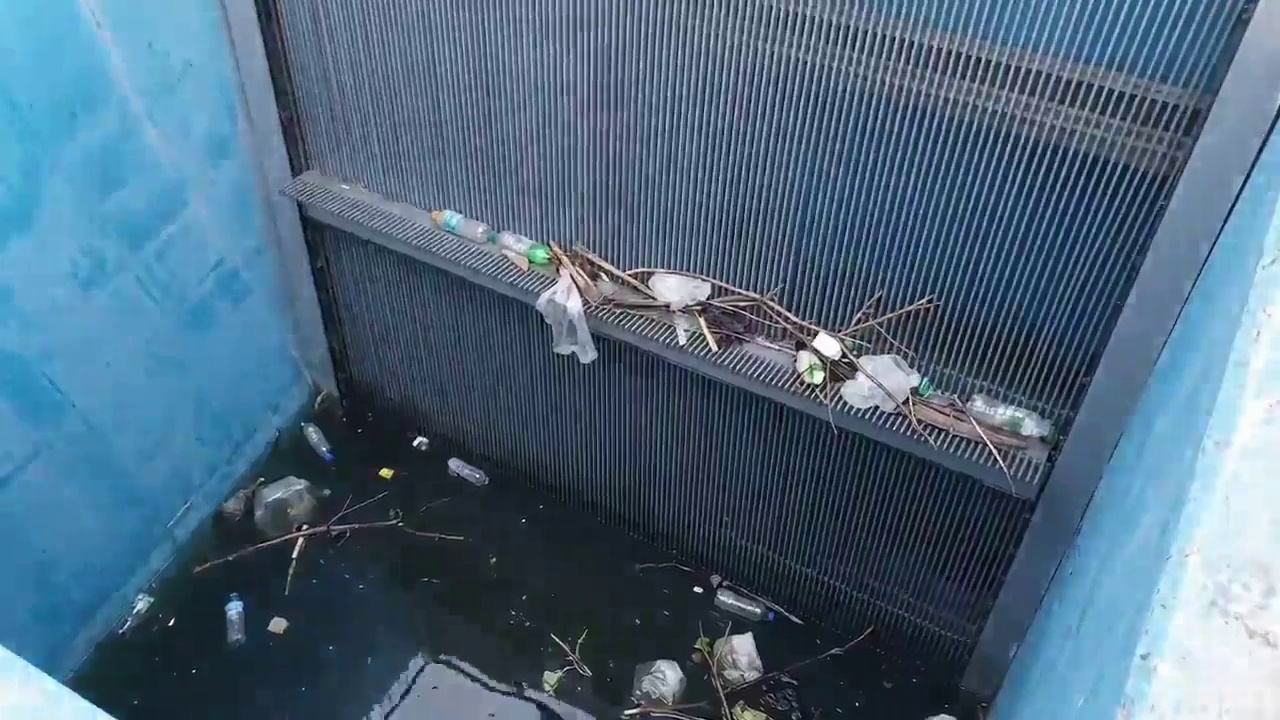debris: (192, 513, 464, 573), (726, 626, 873, 694), (536, 266, 596, 363), (840, 355, 920, 411), (712, 575, 803, 624), (254, 476, 327, 536), (965, 394, 1052, 437), (695, 624, 728, 719), (543, 629, 591, 693), (712, 633, 763, 686), (632, 660, 686, 706), (648, 272, 711, 310), (327, 491, 388, 525), (494, 231, 550, 268), (431, 210, 493, 243), (550, 629, 591, 677), (714, 587, 773, 620), (219, 478, 265, 520), (284, 525, 306, 596), (118, 593, 153, 633), (301, 422, 332, 461), (447, 457, 488, 486), (225, 593, 246, 646), (795, 350, 825, 385), (810, 332, 843, 359), (672, 313, 695, 346), (730, 701, 769, 719), (542, 669, 565, 695), (635, 562, 693, 572), (502, 250, 529, 271), (419, 497, 451, 513), (267, 617, 288, 634), (412, 436, 430, 451), (377, 467, 395, 479), (709, 574, 722, 588), (926, 714, 955, 719), (693, 585, 703, 593), (167, 617, 175, 626)
